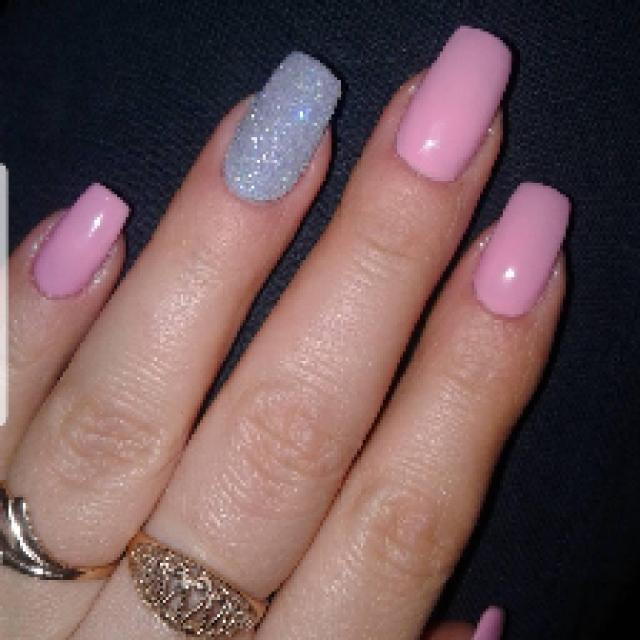Nail: (396, 26, 511, 180), (224, 51, 340, 201), (474, 182, 569, 317), (32, 182, 129, 298)
